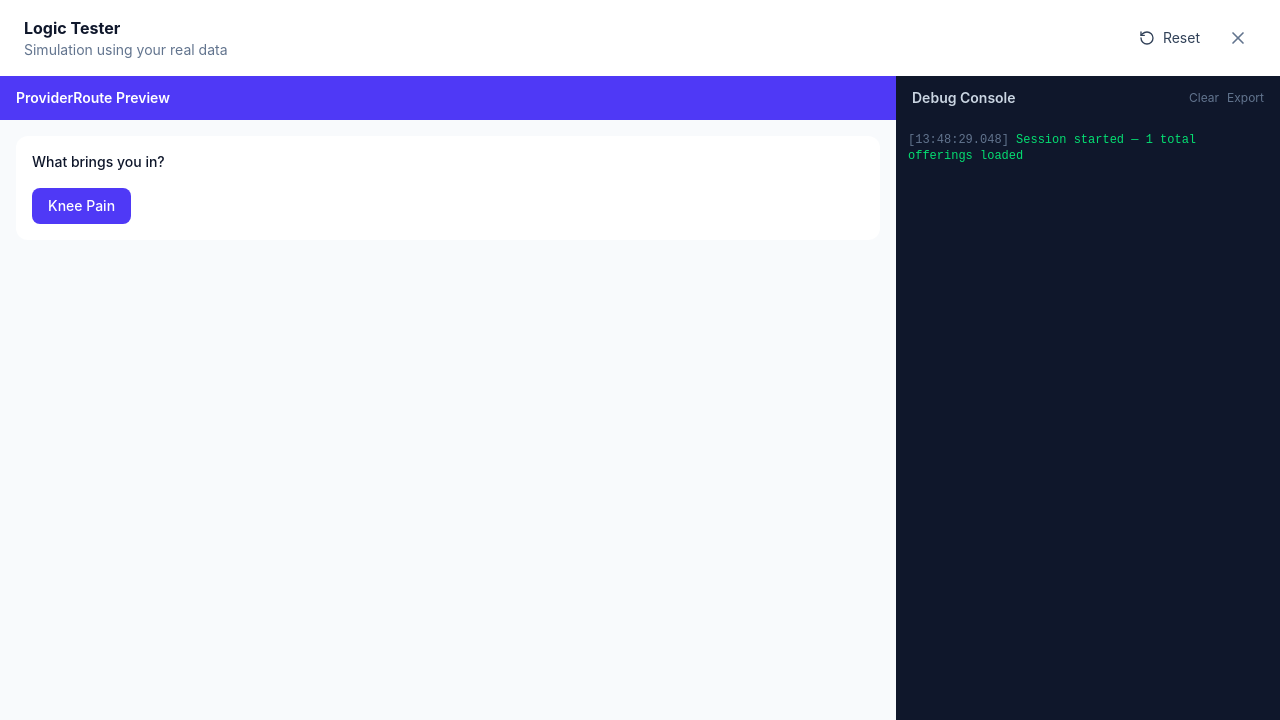
Test: LogicTester flow › resets back to the entry question
Expected: the text "What brings you in?" is shown, [32,153,165,170]
Click the button "Knee Pain" at (82, 206), box [32,188,131,224]
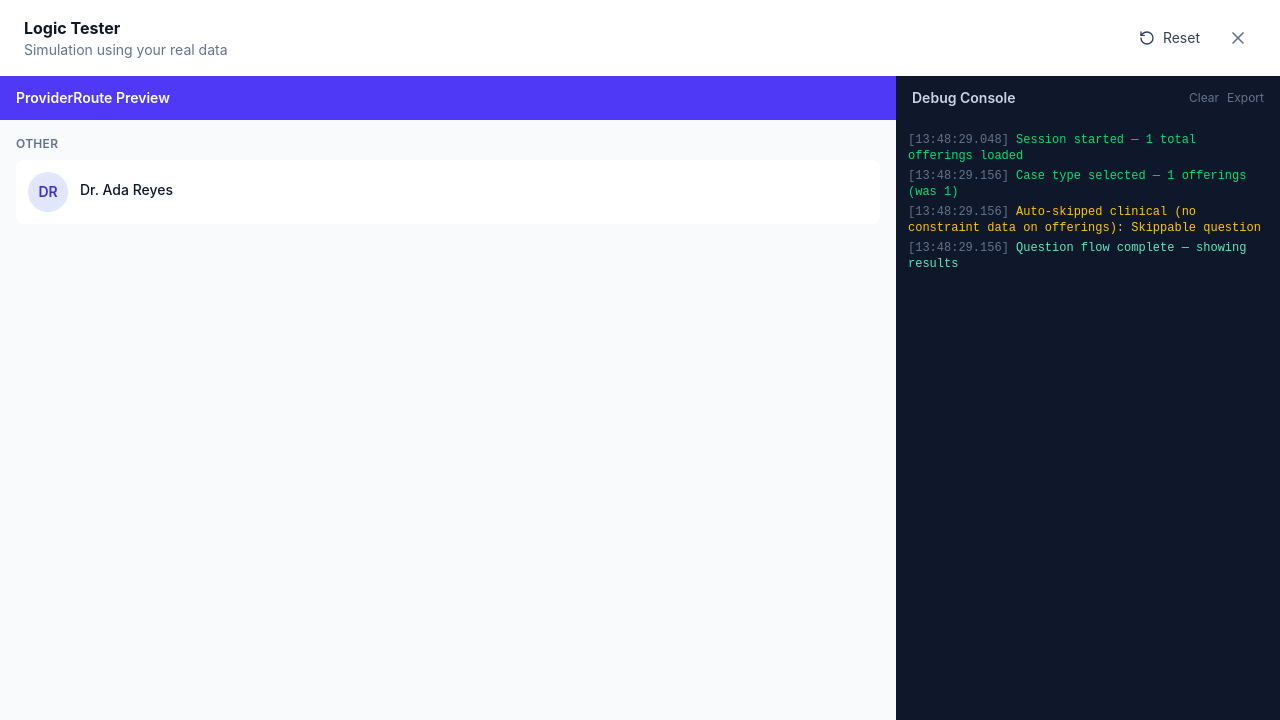
Expected: the text "[13:48:29.156] Question flow complete — showing results" is shown, [908,240,1268,272]
Click the button "Reset" at (1169, 38), box [1127,20,1212,56]
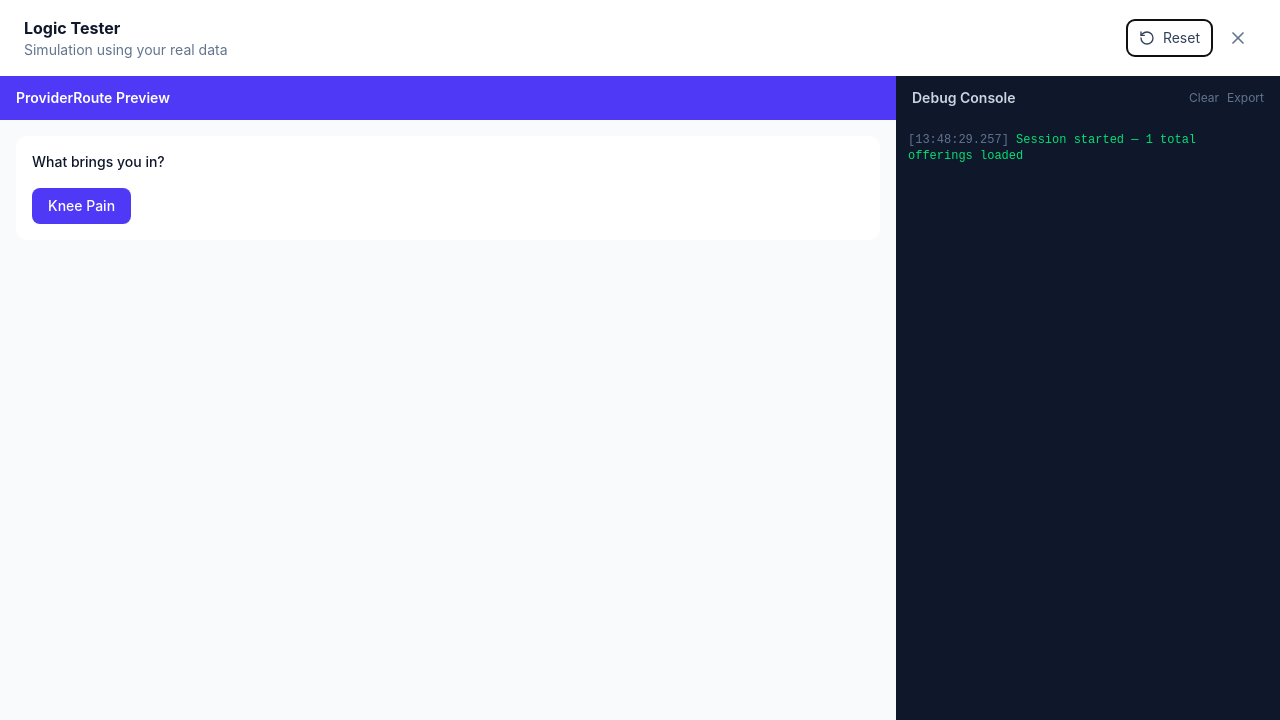
Expected: the text "What brings you in?" is shown, [32,153,165,170]
Expected: the text "[13:48:29.257] Session started — 1 total offerings loaded" is shown once, [908,133,1196,163]
